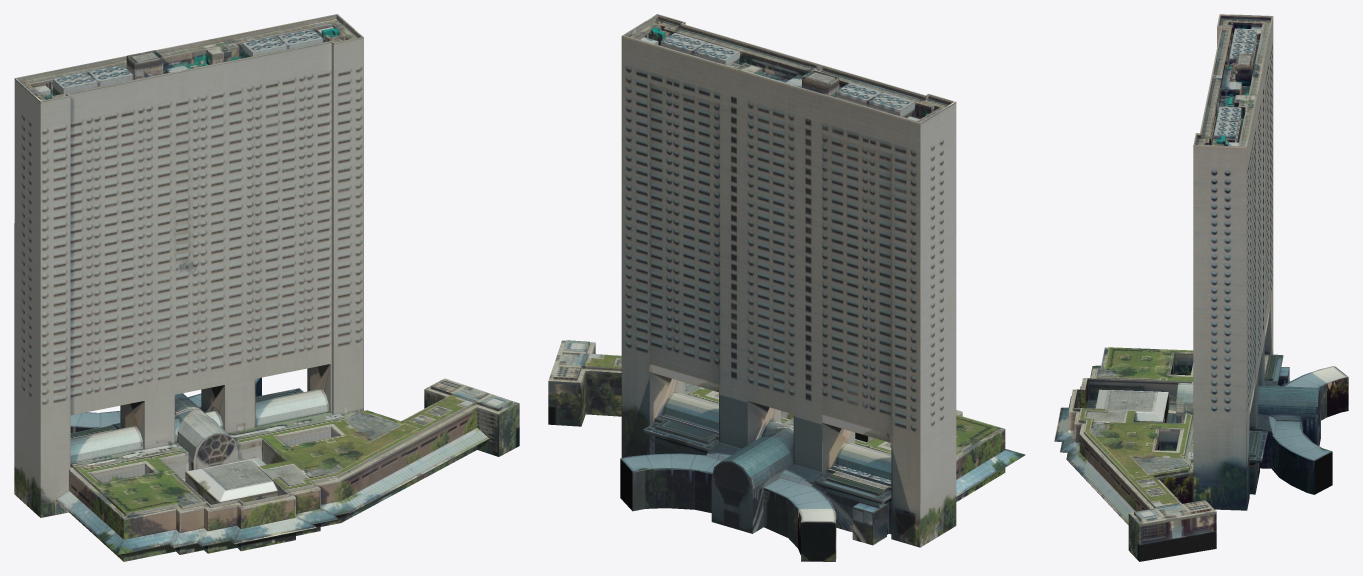
The picture shows the model from 3 angles, left to right: view 1: azimuth 30°, elevation 25°; view 2: azimuth 150°, elevation 25°; view 3: azimuth 270°, elevation 25°; orthographic projection. The views are drawn at different scales.
Parts seen in each view (by area): view 1: 24_0.glb; view 2: 24_0.glb; view 3: 24_0.glb.
Part boxes in pixels (x1,y1,x2,y2): 24_0.glb: (14, 14, 519, 561); 24_0.glb: (548, 14, 1025, 561); 24_0.glb: (1054, 14, 1348, 561).
Bounding box in the file's own units: 149 × 139 × 101.
Materials: 1 (1 with a texture image).
